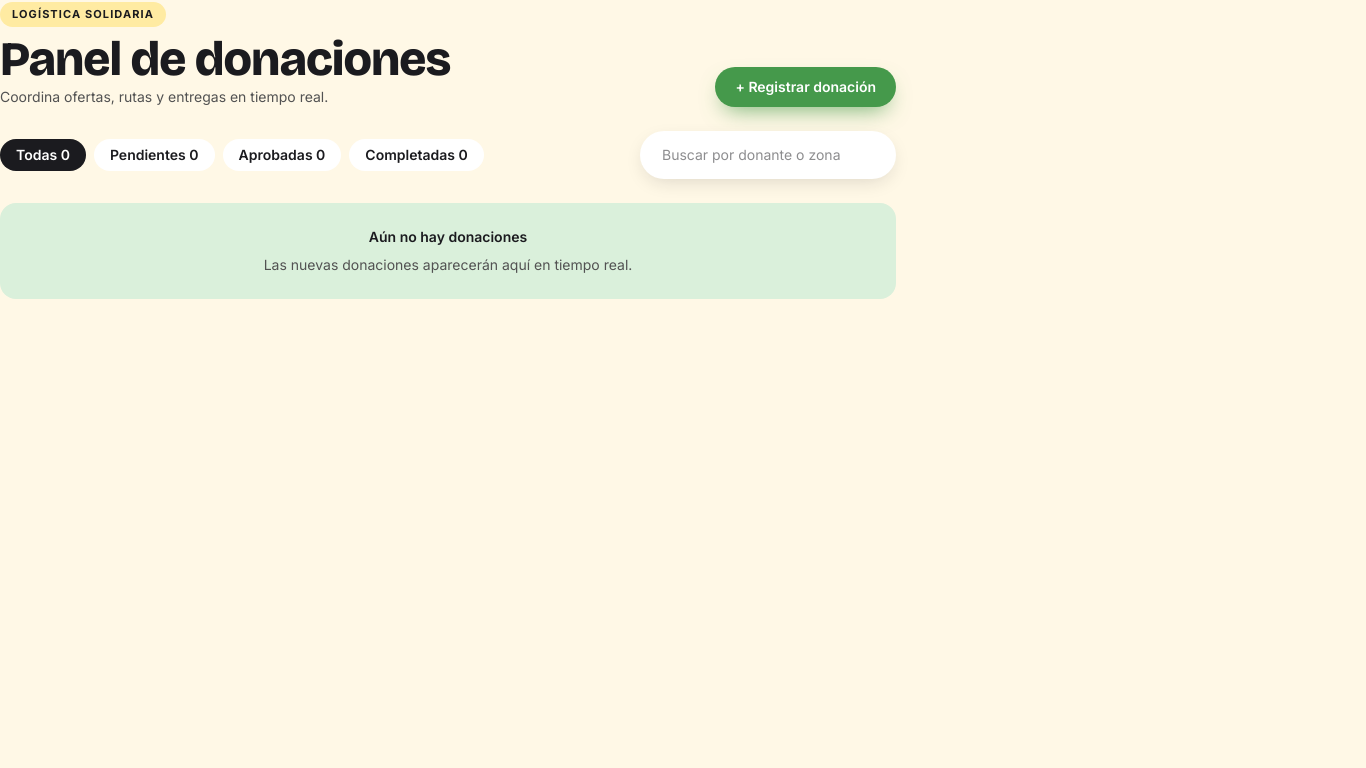
Test: admin donations page opens the donation dialog with the donor name field
Click the button "+ Registrar donación": point(806, 86) [715,66,896,106]
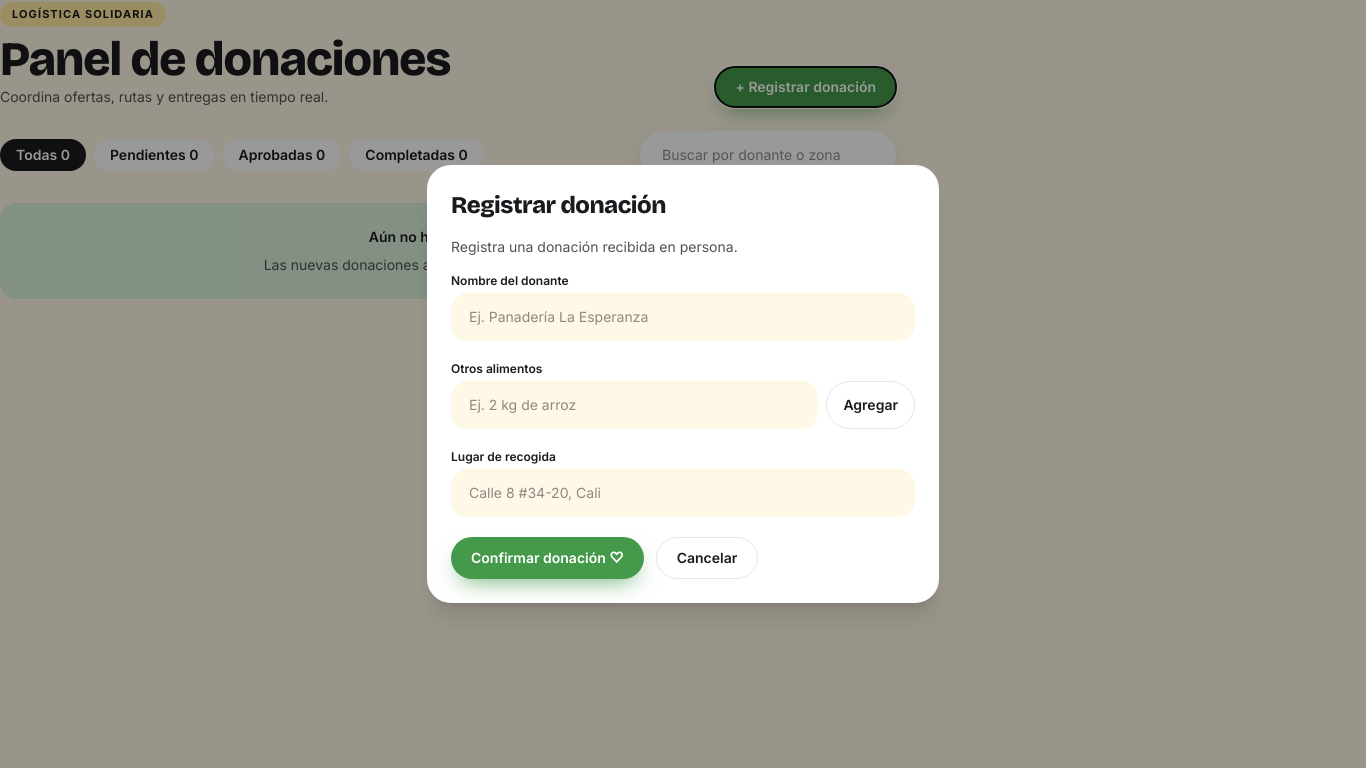
Expected: the dialog is shown, [427,165,939,603]
Expected: the field labelled "Nombre del donante" is shown, [451,293,915,341]
